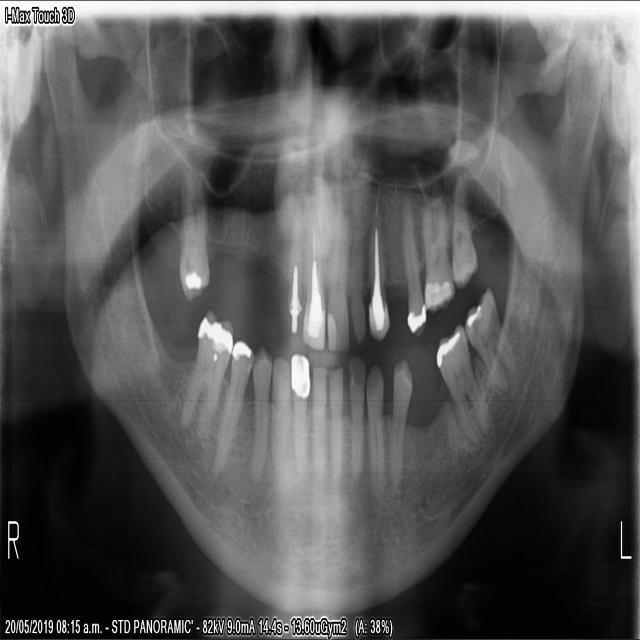LCD: (362, 356, 383, 514)
LCU: (366, 200, 391, 342)
LID: (345, 350, 364, 494), (326, 365, 343, 521)
LIU: (324, 199, 350, 354)
LMD: (433, 314, 491, 456), (462, 279, 514, 392)
LMU: (421, 190, 456, 312), (448, 172, 480, 288)
LPMD: (386, 348, 413, 503)
LPMU: (400, 189, 427, 340)
RCD: (267, 346, 290, 522)
RID: (285, 345, 307, 519), (309, 359, 324, 528)
RIU: (298, 168, 325, 356)
RMD: (176, 303, 235, 442)
RMU: (176, 160, 211, 304)
RPMD: (208, 333, 253, 483), (245, 341, 272, 483)
